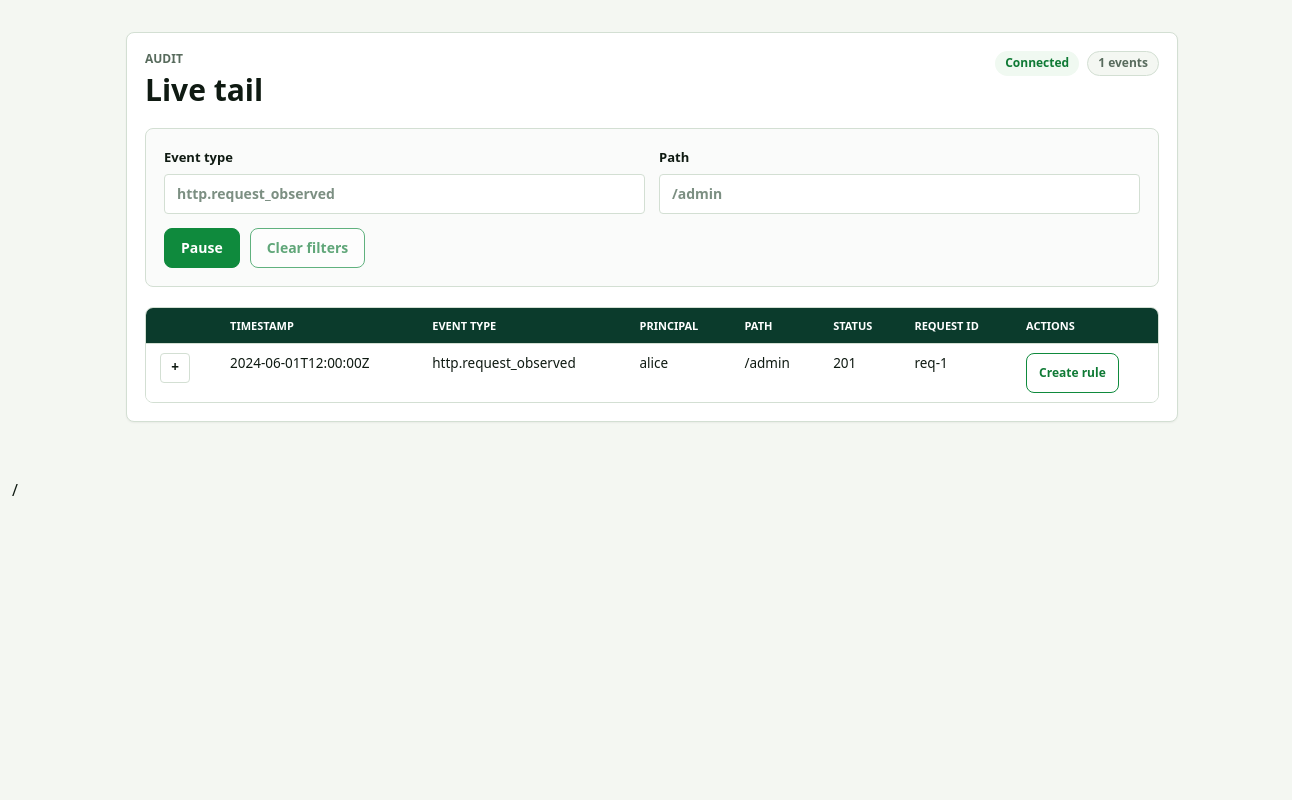
Test: LiveTail › expands a row to reveal the complete event JSON
Expected: the text "Connected" is shown, x1=995 y1=51 x2=1079 y2=76
Expected: the text "http.request_observed" is shown, x1=418 y1=344 x2=626 y2=402
What coordinates should you click on to do the following:
click the button named "Expand event event-1"
I would click on:
 (175, 368)
Its box is x1=160 y1=353 x2=190 y2=383.
(page scrolled)
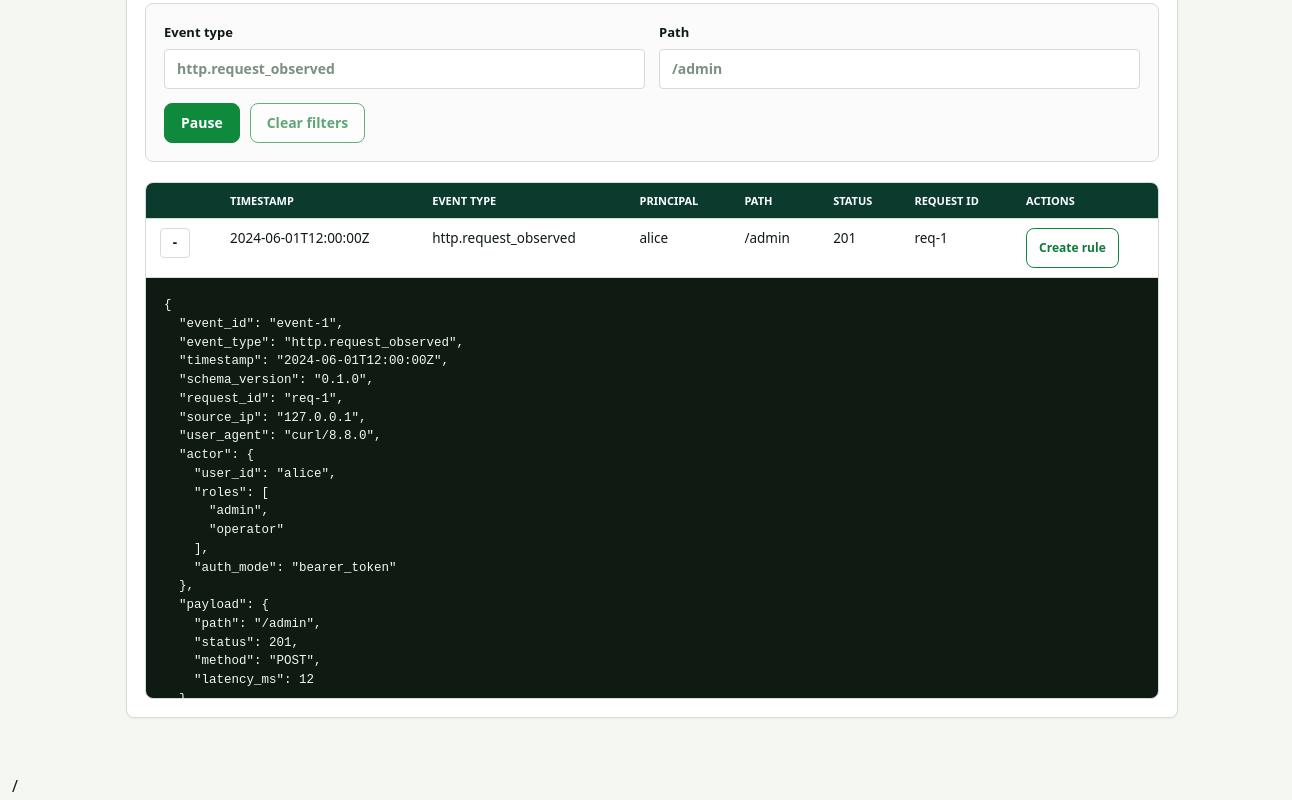
Expected: the text with test id "event-json-event-1" shows "\"schema_version\": \"0.1.0\"", x1=164 y1=298 x2=464 y2=699
Expected: the text with test id "event-json-event-1" shows "\"roles\": [", x1=164 y1=298 x2=464 y2=699
Expected: the text with test id "event-json-event-1" shows "\"user_agent\": \"curl/8.8.0\"", x1=164 y1=298 x2=464 y2=699
